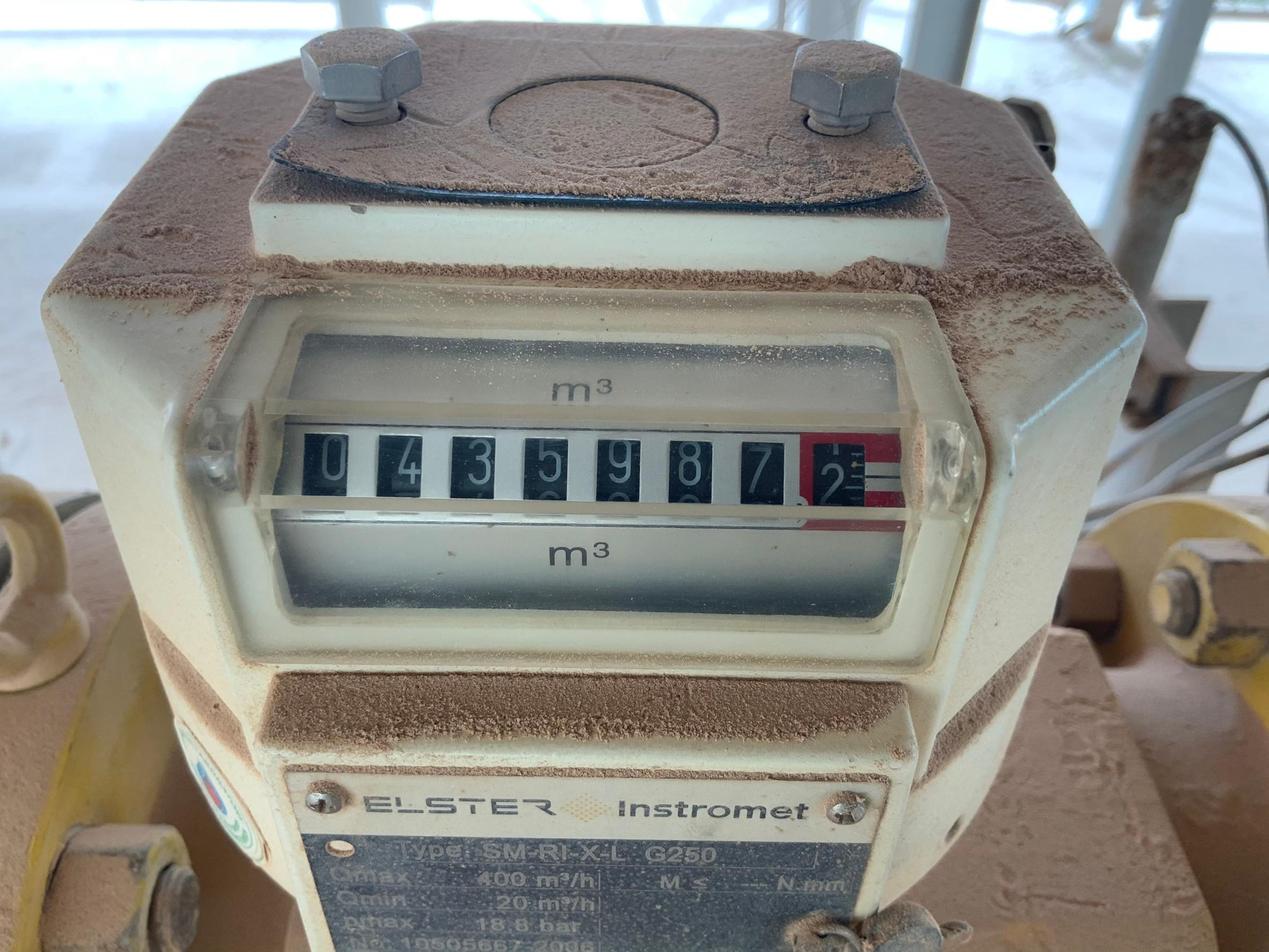analog_dial: (273, 414, 908, 508)
